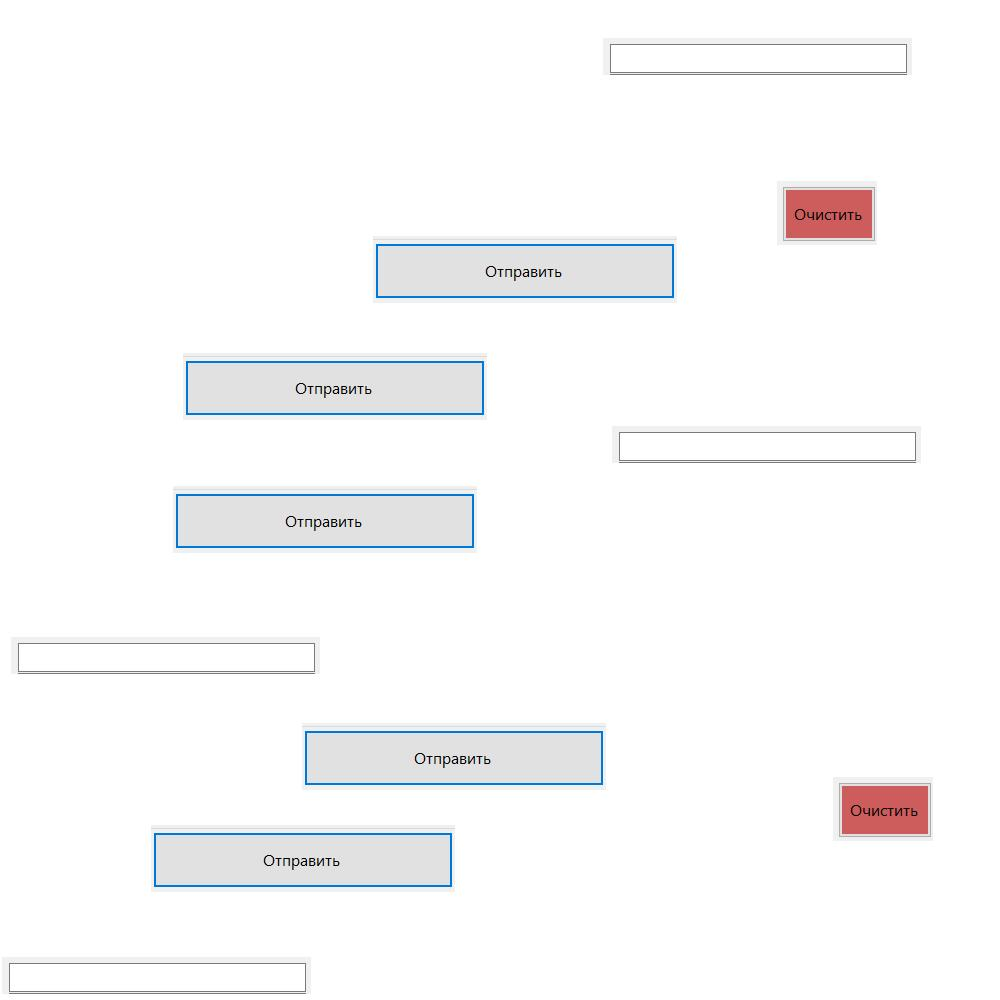Button: (373, 236, 677, 303), (151, 825, 455, 892), (173, 486, 477, 553), (302, 723, 606, 790), (183, 353, 487, 420), (777, 181, 877, 245), (833, 777, 933, 841)
EditText-: (603, 38, 912, 75), (612, 426, 921, 463), (11, 637, 320, 674), (2, 957, 311, 994)
